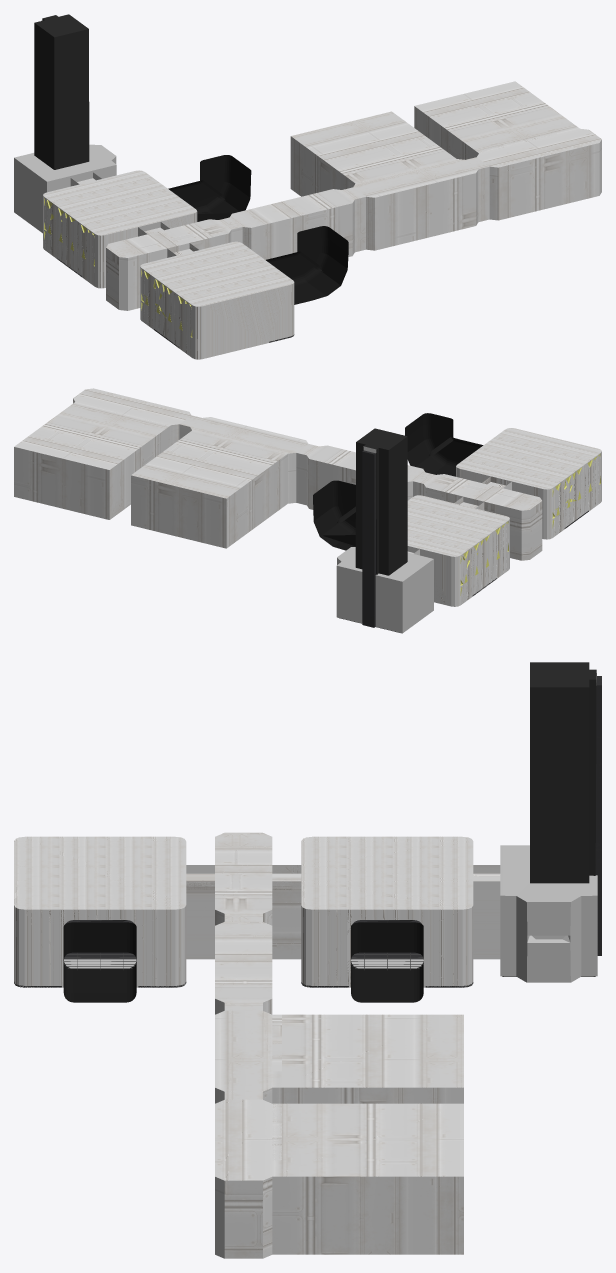
The model's file is 4 Room Station.fbx.
3 renders of one model, top to bottom at view 1: azimuth 30°, elevation 25°; view 2: azimuth 150°, elevation 25°; view 3: azimuth 270°, elevation 25°, orthographic. The views are drawn at different scales.
Parts seen in each view (by area): view 1: Elevator + Lobby, Lobby 2, Gang Export.003, Gang Export.002, Gang Export.001, Gang Export; view 2: Elevator + Lobby, Gang Export.003, Gang Export.002, Lobby 2, Gang Export, Gang Export.001; view 3: Elevator + Lobby, Gang Export.002, Lobby 2, Gang Export.003, Gang Export, Gang Export.001.
Part boxes in pixels (x1,y1,x2,y2): Elevator + Lobby: (14, 14, 251, 288); Lobby 2: (140, 226, 348, 359); Gang Export.003: (290, 111, 489, 250); Gang Export.002: (414, 81, 601, 220); Gang Export.001: (229, 187, 365, 259); Gang Export: (106, 217, 242, 310); Elevator + Lobby: (313, 428, 509, 633); Gang Export.003: (131, 415, 308, 548); Gang Export.002: (14, 388, 191, 519); Lobby 2: (405, 413, 601, 539); Gang Export: (413, 472, 542, 560); Gang Export.001: (296, 444, 425, 509); Elevator + Lobby: (301, 662, 601, 1002); Gang Export.002: (215, 1099, 463, 1258); Lobby 2: (14, 836, 186, 1002); Gang Export.003: (215, 1010, 463, 1103); Gang Export: (186, 832, 301, 959); Gang Export.001: (215, 921, 272, 1014).
Size of the model in its own units: 4300 by 1602 by 3071.
